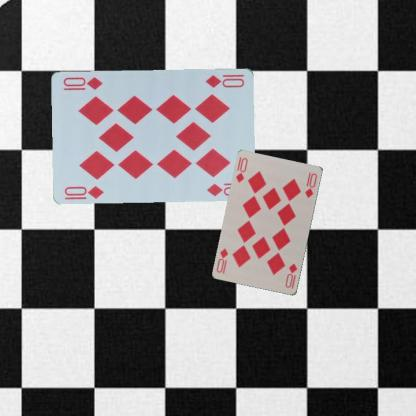10d: (62, 182, 105, 199), (204, 72, 246, 89), (282, 261, 298, 290), (233, 156, 249, 184)
